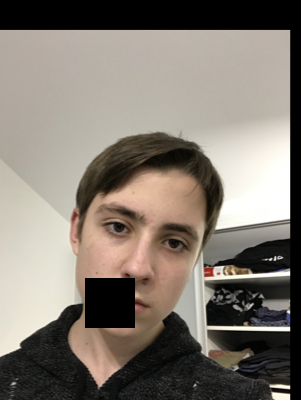without_mask: (75, 198, 201, 338)
